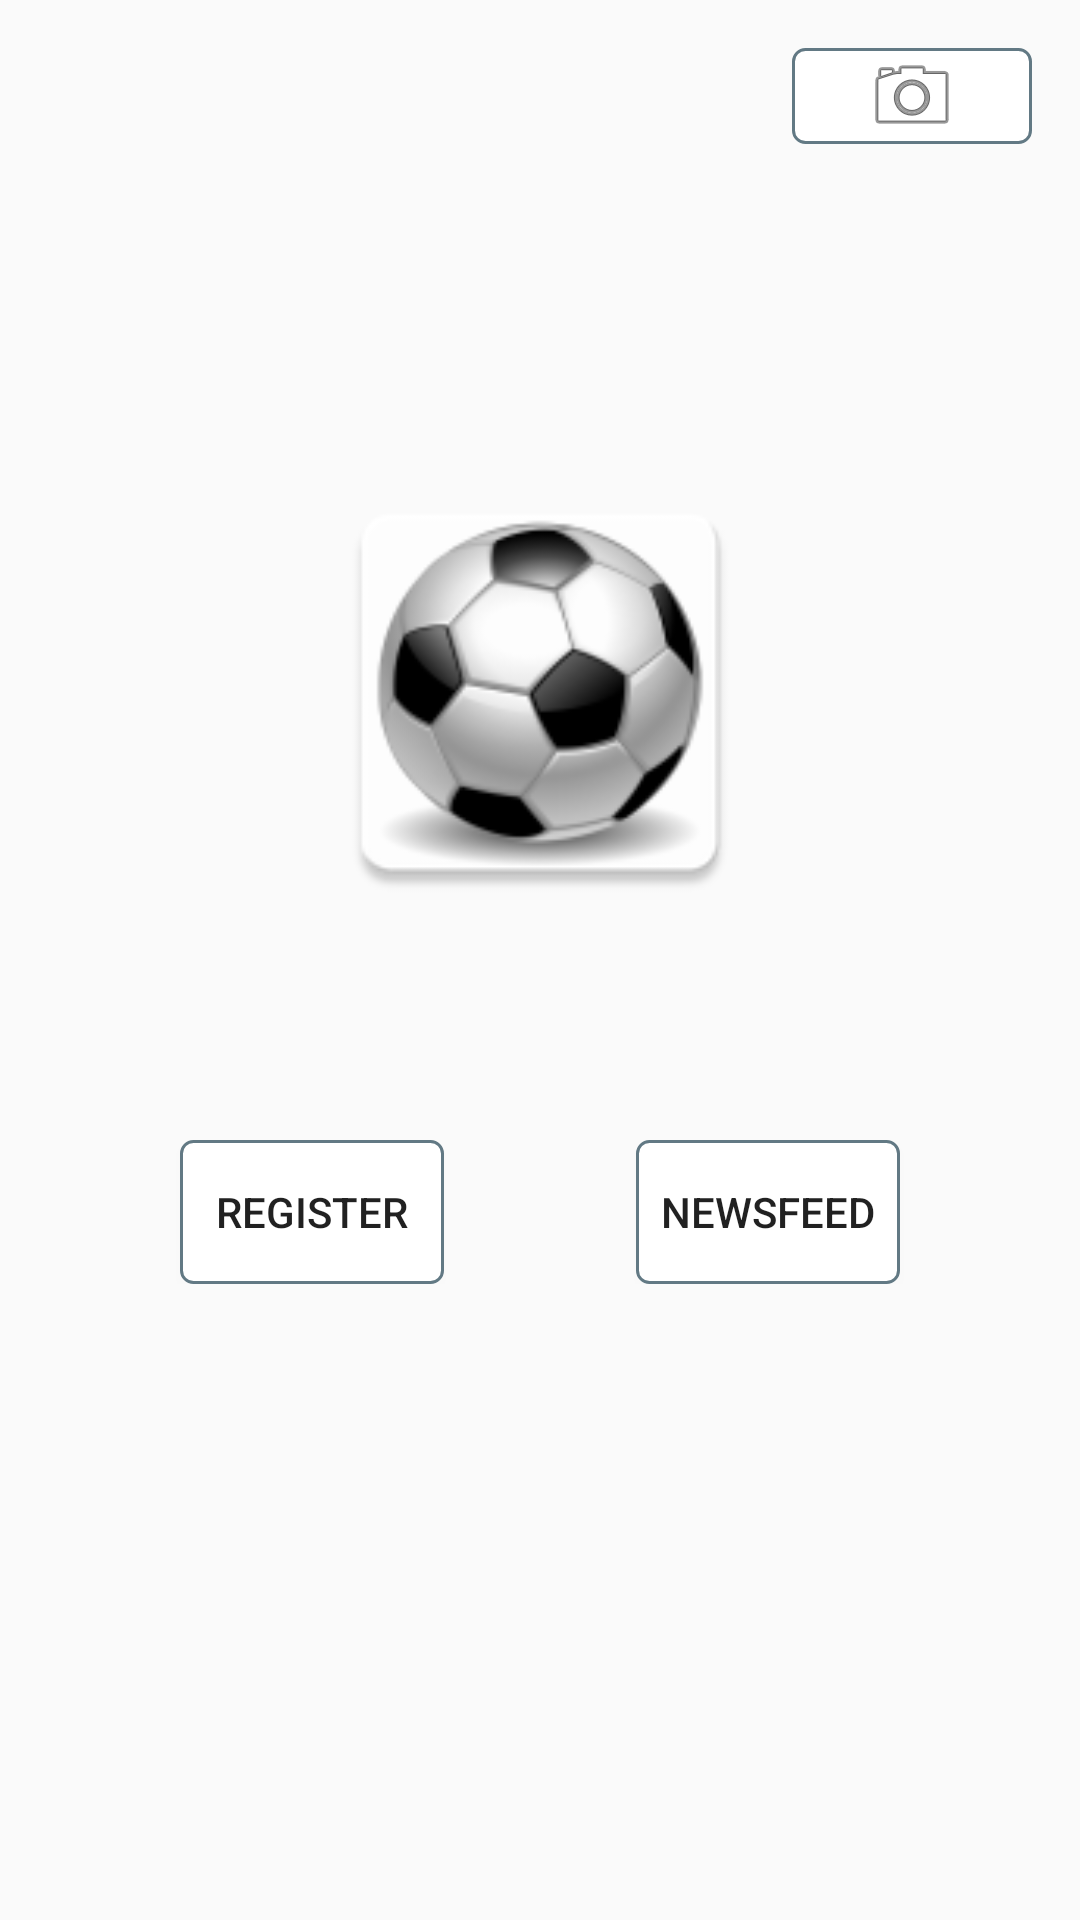

Named icons in this screenshot (1080*1920) and their bounding boxes, bbox=(x1, y1, x2, y2):
camera: bbox=(792, 48, 1032, 144)
